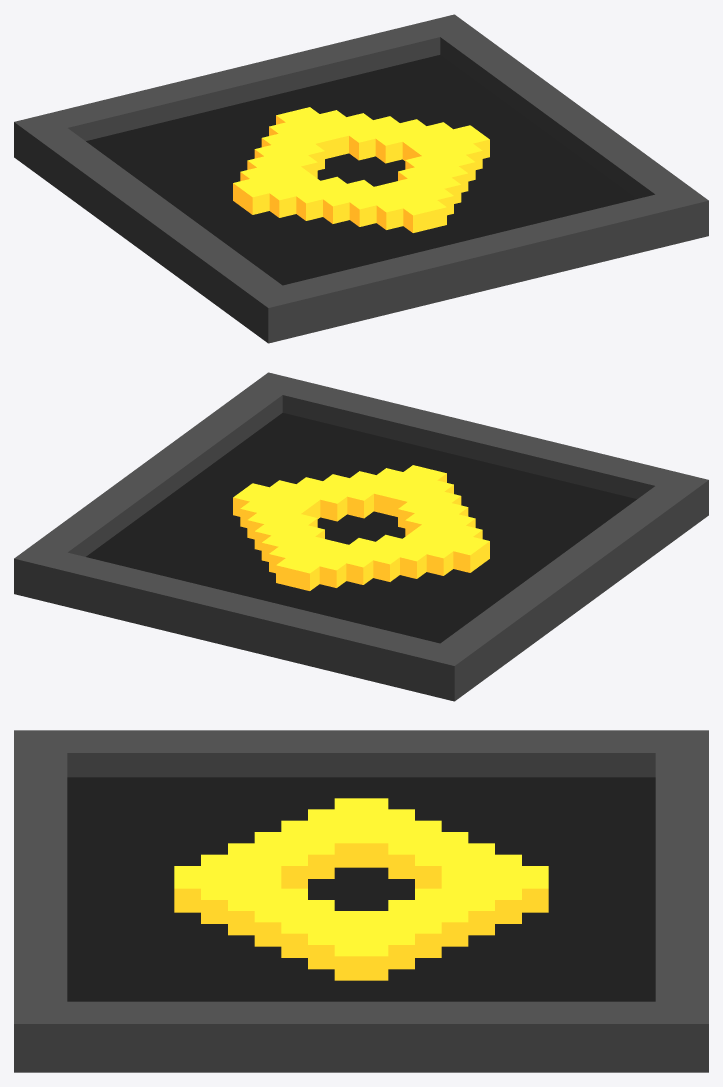
The model's file is trap_DIAMOND_ORANGE.glb.
3 renders of one model, top to bottom at view 1: azimuth 30°, elevation 25°; view 2: azimuth 150°, elevation 25°; view 3: azimuth 270°, elevation 25°, orthographic. The views are drawn at different scales.
Parts seen in each view (by area): view 1: item_TRAP_DIAMOND_ORANGE; view 2: item_TRAP_DIAMOND_ORANGE; view 3: item_TRAP_DIAMOND_ORANGE.
Part boxes in pixels (bbox=[...]): item_TRAP_DIAMOND_ORANGE: bbox=[14, 14, 708, 343]; item_TRAP_DIAMOND_ORANGE: bbox=[14, 372, 708, 701]; item_TRAP_DIAMOND_ORANGE: bbox=[14, 730, 708, 1072].
Bounding box in the file's own units: 0.5909 × 0.0455 × 0.5909.
Materials: 1 (1 with a texture image).
